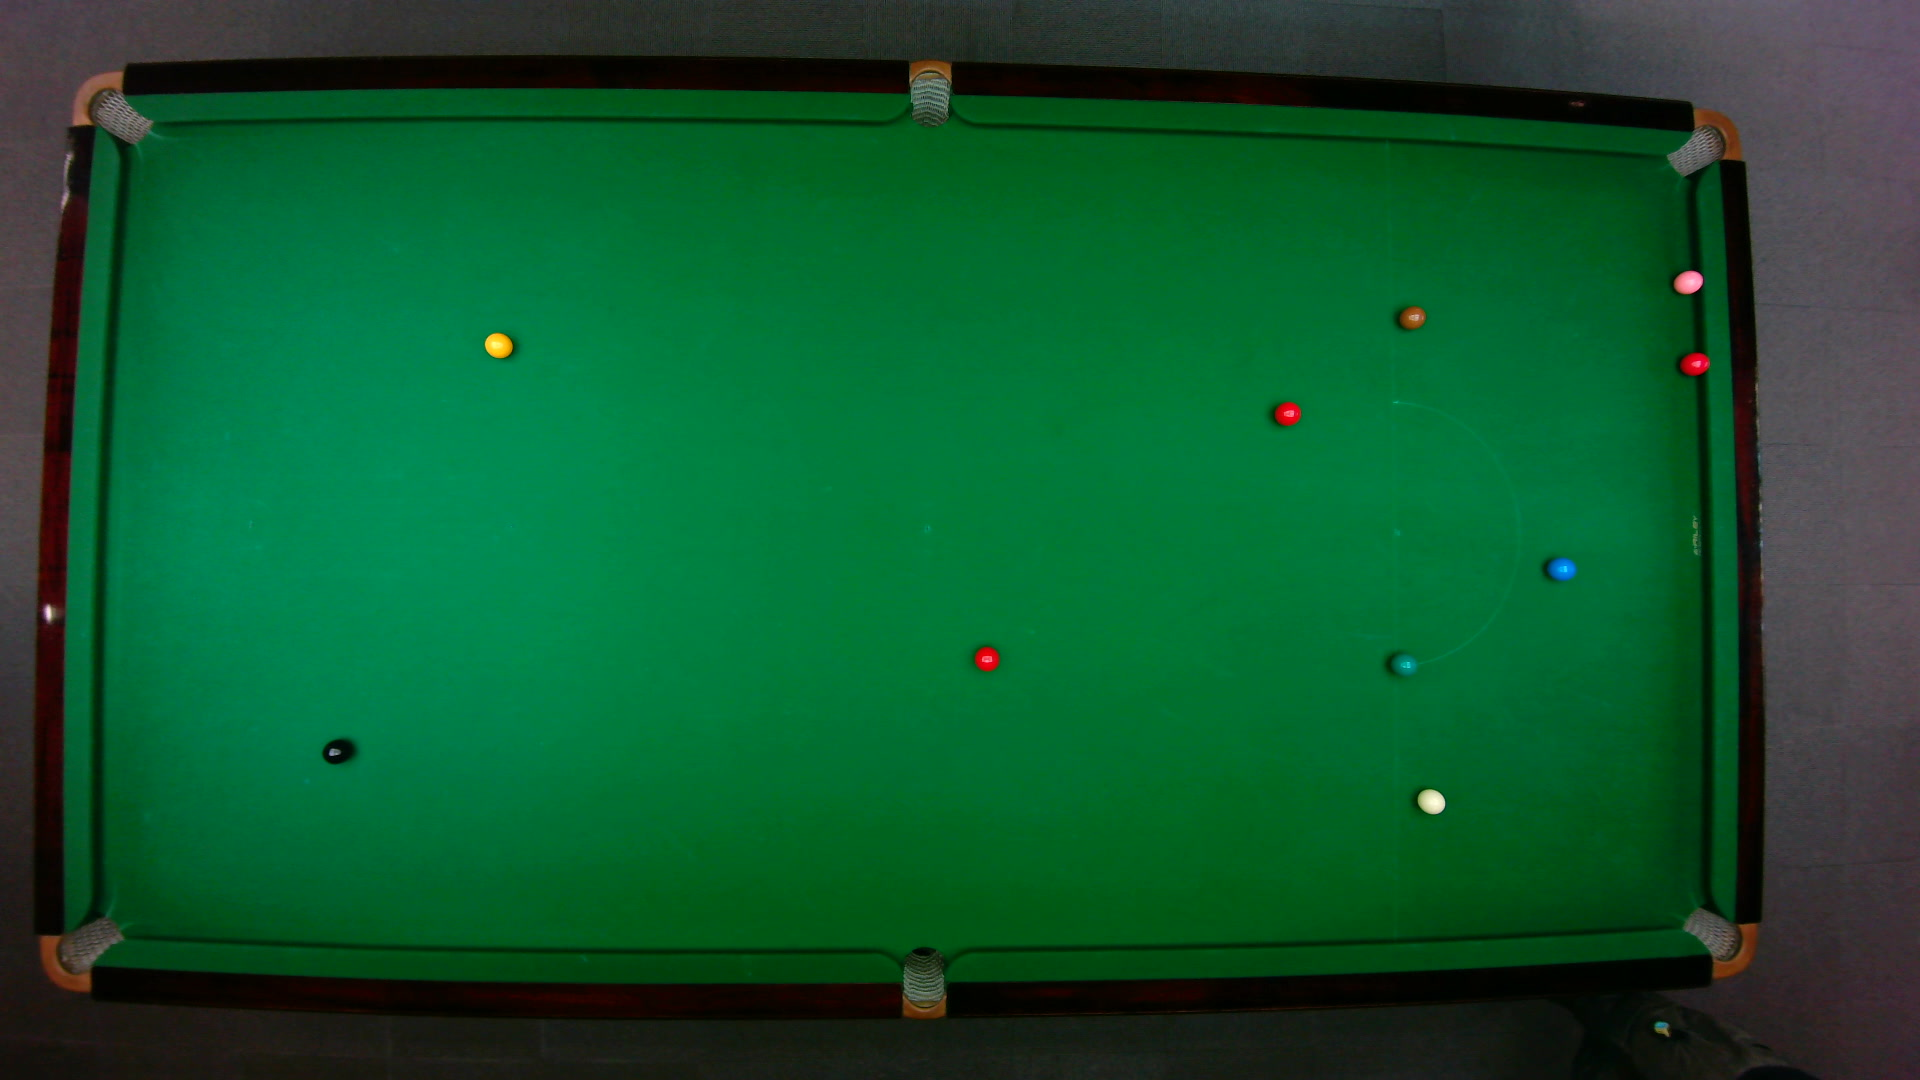bag: (37, 913, 125, 992), (69, 69, 153, 145), (1679, 905, 1756, 978), (1663, 107, 1741, 177), (901, 944, 944, 1021), (909, 57, 949, 128)
black: (320, 736, 352, 765)
blue: (1545, 556, 1576, 582)
brown: (1396, 305, 1427, 328)
green: (1389, 650, 1418, 676)
pink: (1671, 266, 1704, 295)
red: (1677, 349, 1712, 376), (972, 644, 1001, 673), (1271, 400, 1302, 426)
white: (1415, 787, 1447, 814)
yellow: (483, 330, 513, 359)
zone: (1389, 398, 1519, 669)
